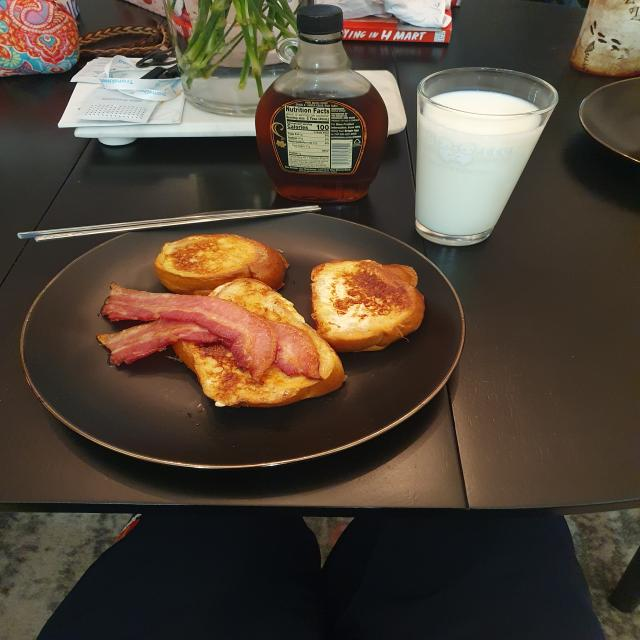Cup: (413, 66, 559, 247)
Plate: (20, 211, 466, 470), (585, 74, 640, 176)
